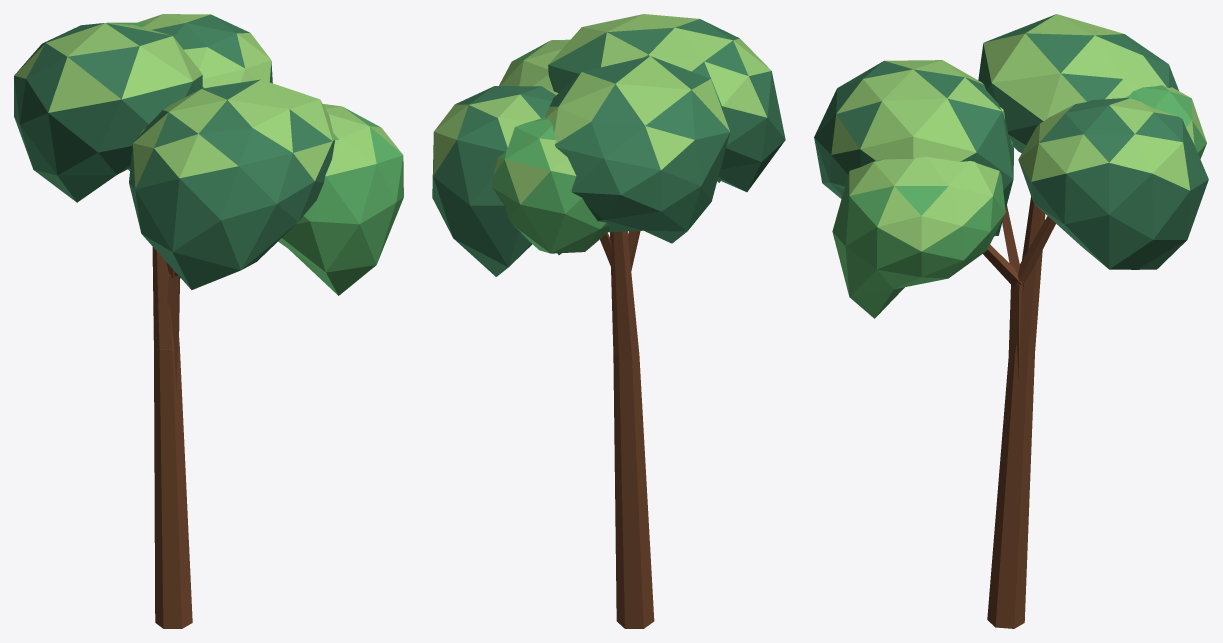
The model's file is sapling_b.glb.
The picture shows the model from 3 angles, left to right: view 1: azimuth 30°, elevation 25°; view 2: azimuth 150°, elevation 25°; view 3: azimuth 270°, elevation 25°; orthographic projection.
Visible parts, largest first — view 1: SaplingB; view 2: SaplingB; view 3: SaplingB.
Part boxes in pixels (left/top/right/bottom): SaplingB: left=14, top=14, right=403, bottom=628; SaplingB: left=432, top=14, right=785, bottom=628; SaplingB: left=814, top=14, right=1208, bottom=628.
Bounding box in the file's own units: 0.6914 × 1.32 × 0.8186.
